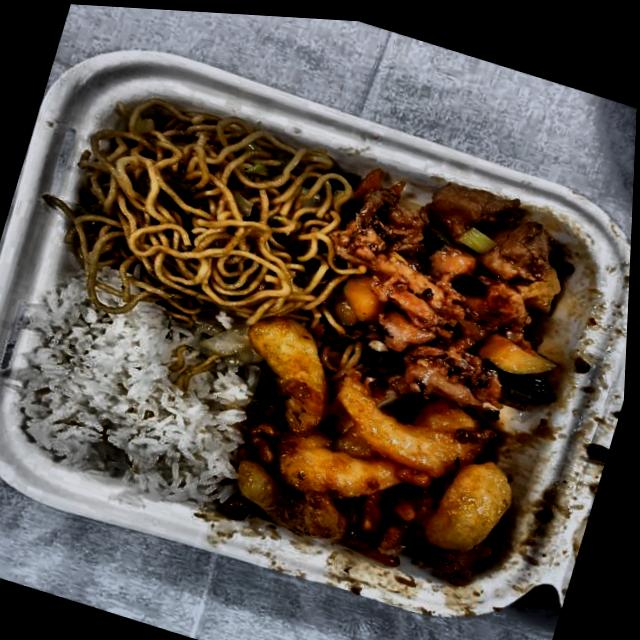Food: (207, 317, 558, 607), (294, 144, 617, 445), (49, 70, 369, 346), (0, 275, 270, 513)
